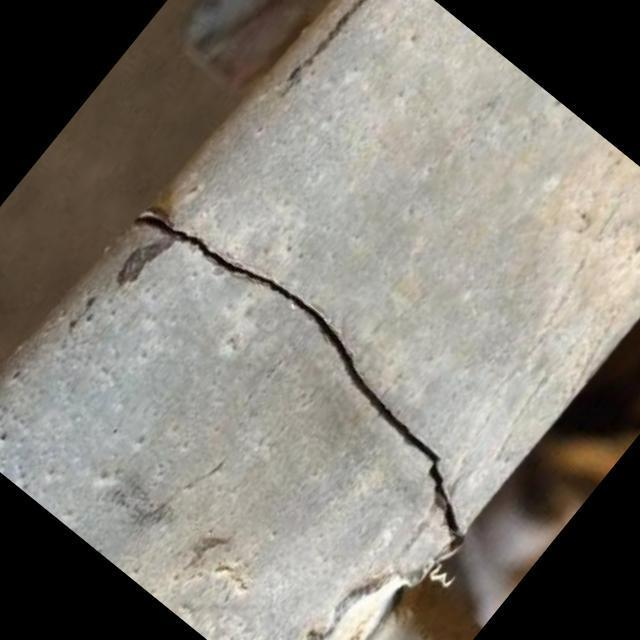defect: (127, 204, 468, 546)
